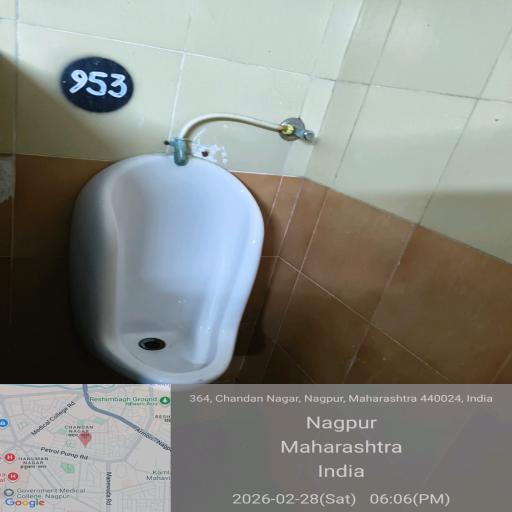clean_urinal: (47, 165, 324, 431)
